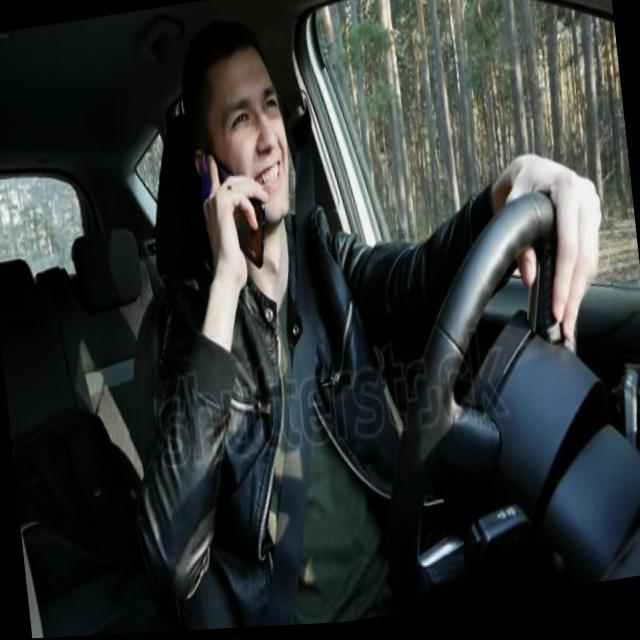PhoneCall: (194, 146, 264, 276)
